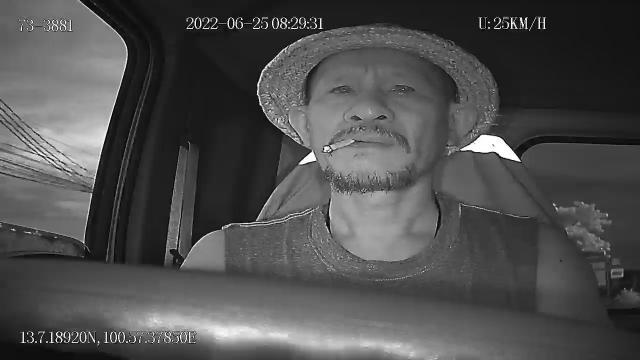SafeDriving: (322, 74, 359, 102), (380, 77, 420, 100)
Smoking: (322, 138, 354, 154)
